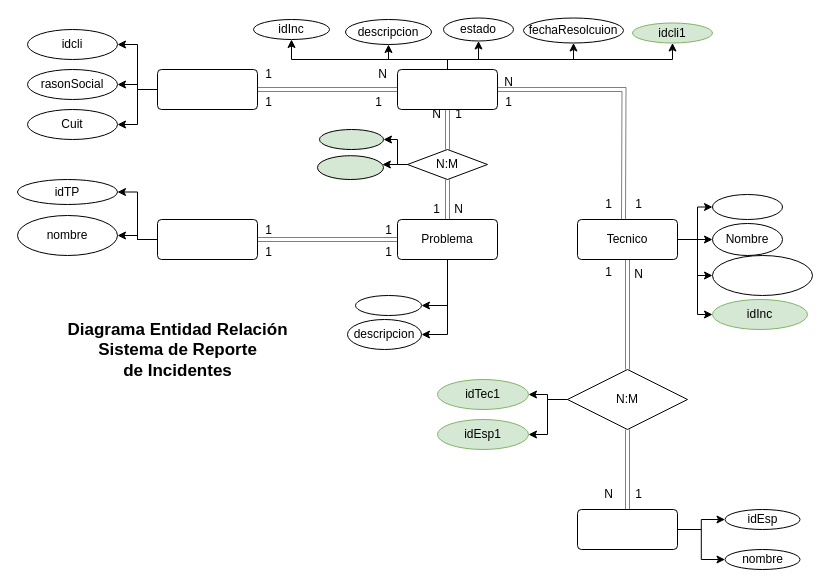
Image size: 830x587. Some labels were removed from this diagram. Each missing label, with the box of its shape:
Cliente: (156, 68, 258, 110)
Especialidad: (576, 508, 678, 550)
idInc1: (318, 128, 384, 150)
idPro: (354, 294, 422, 316)
idPro1: (316, 155, 384, 180)
idTec: (712, 194, 782, 220)
Incidente: (396, 68, 498, 110)
medioNotificacion: (712, 254, 812, 296)
TipoProblema: (156, 218, 258, 260)
